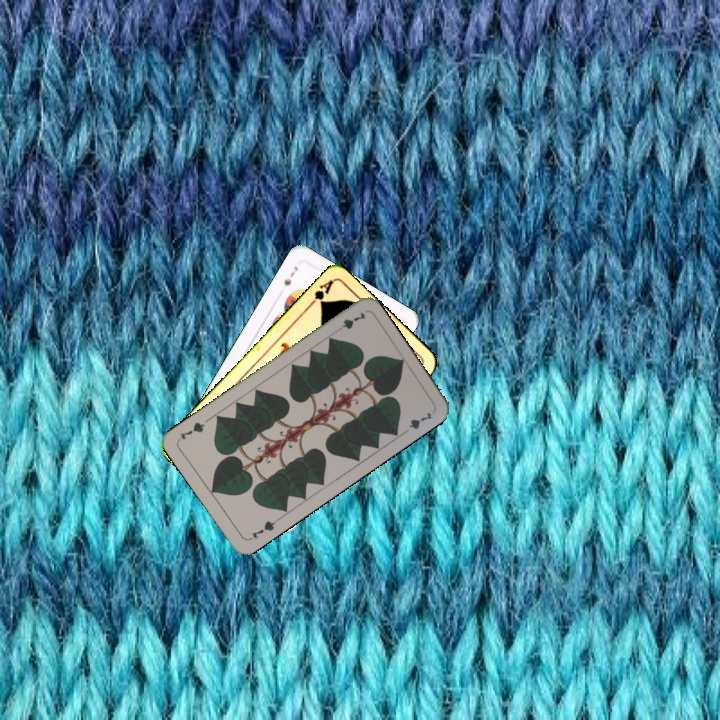G7: (331, 307, 369, 336), (245, 515, 280, 543)
GA: (304, 276, 336, 310)
S7: (280, 262, 301, 288)
